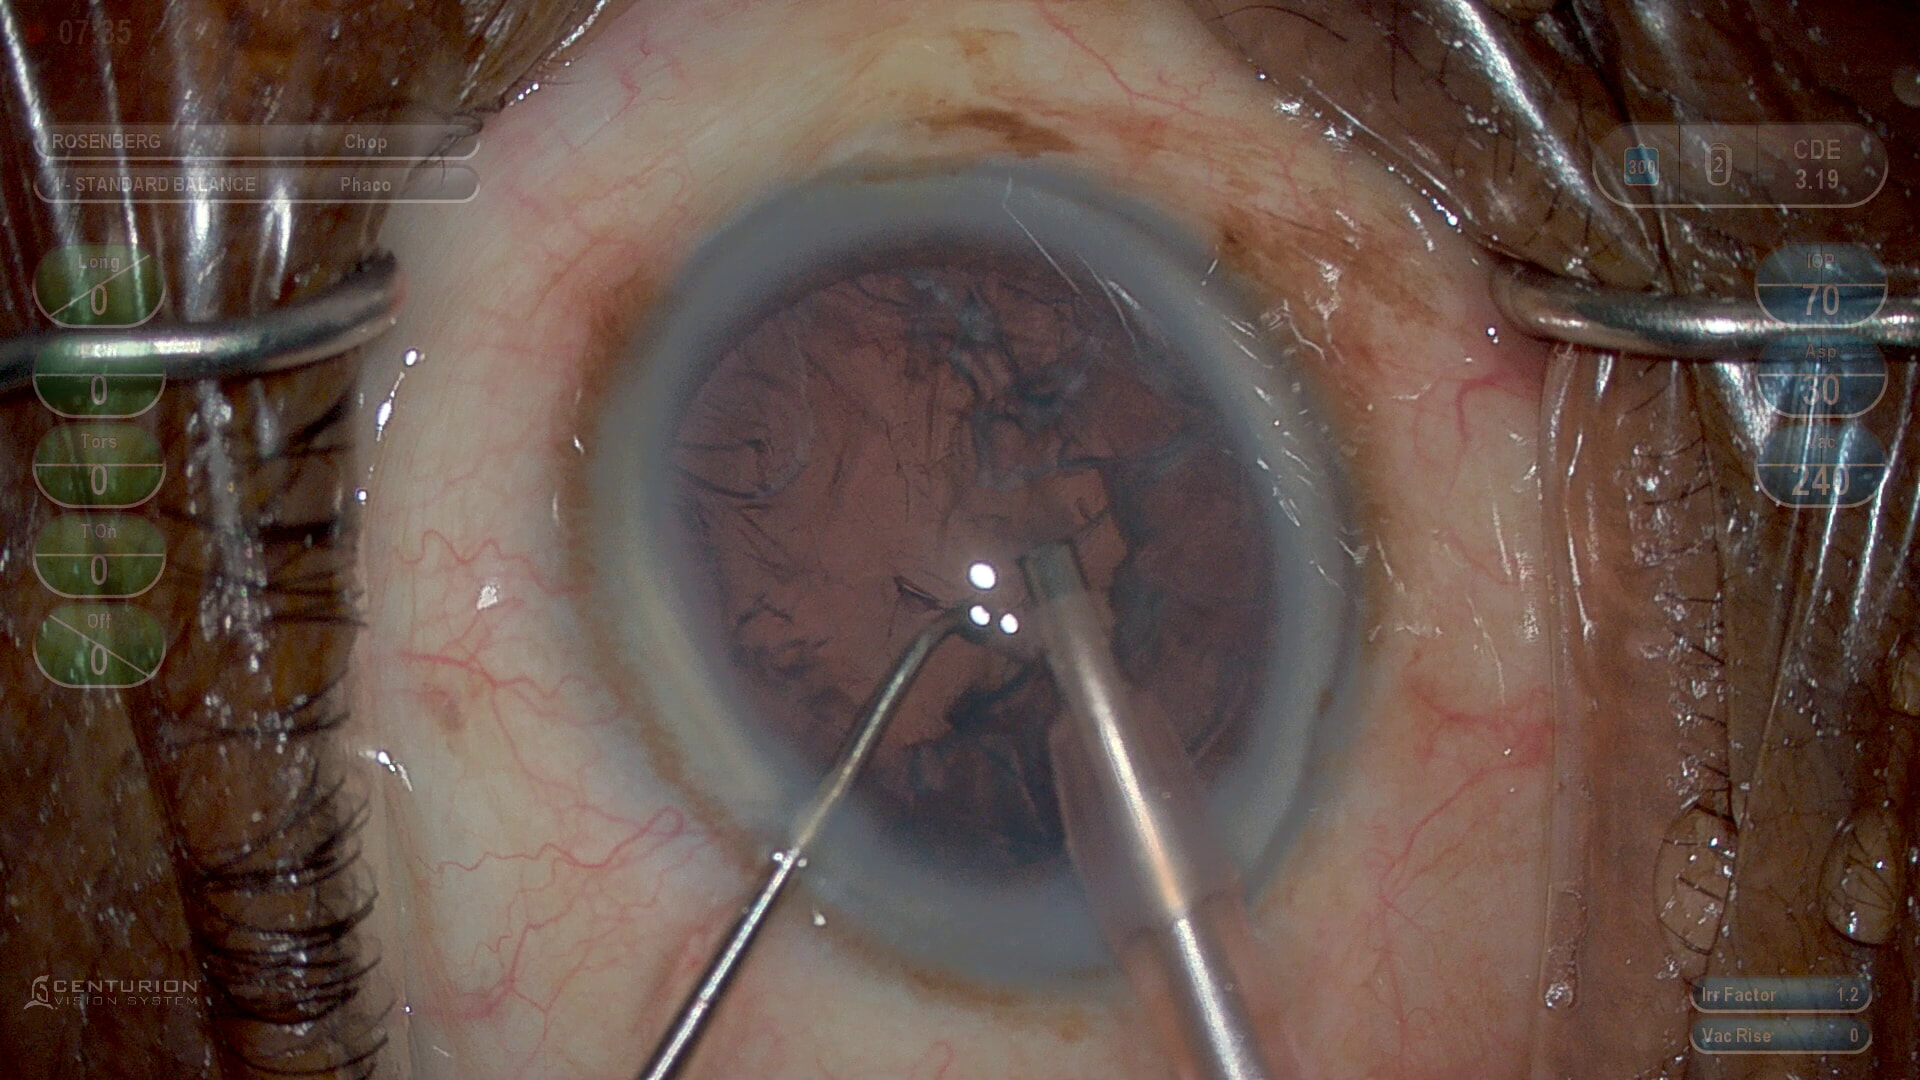iris: (601, 175, 1337, 985)
pupil: (657, 255, 1272, 877)
